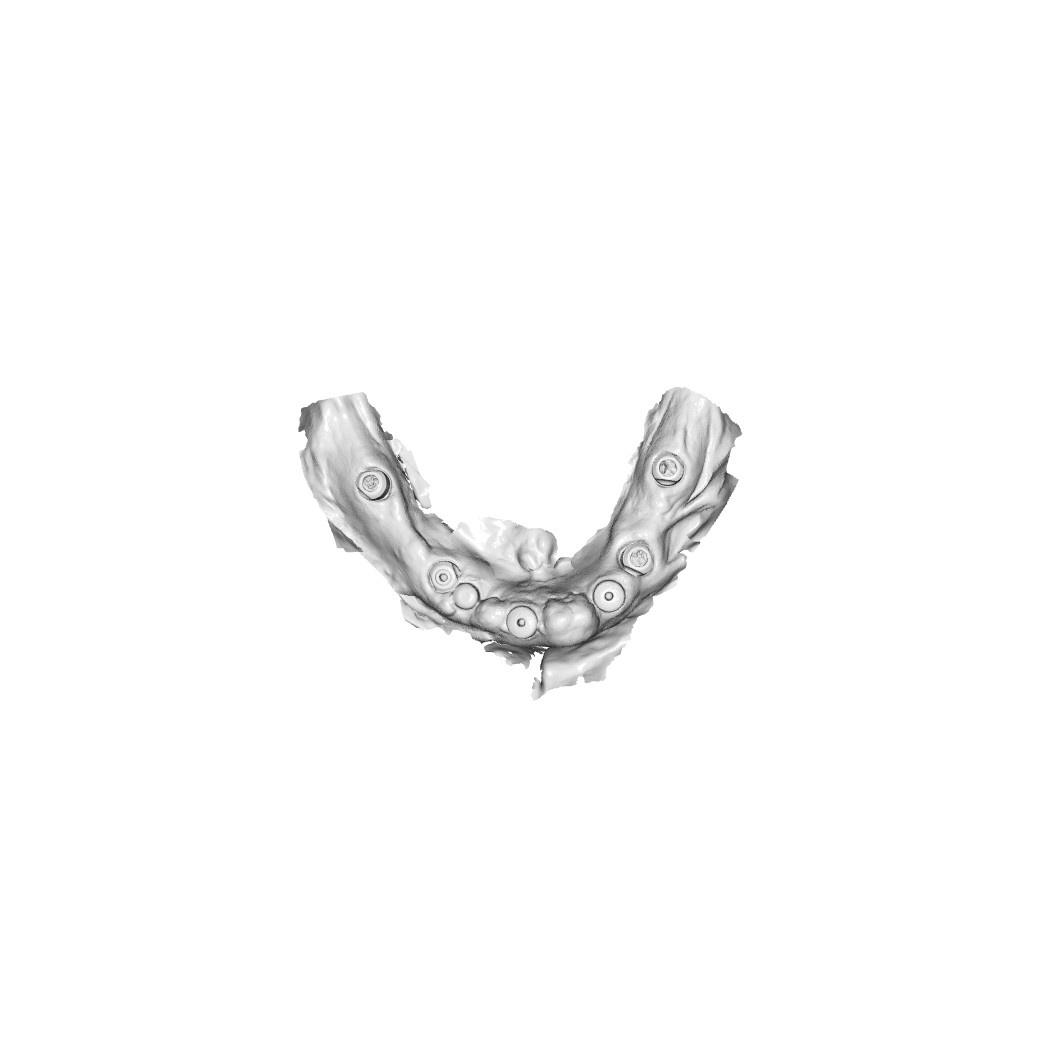implant: (648, 448, 687, 490), (353, 465, 392, 506), (616, 542, 656, 577), (593, 578, 626, 618), (429, 560, 460, 592), (506, 606, 534, 637)
